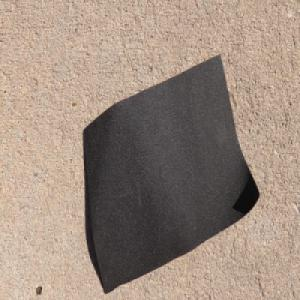PaintChip: (82, 51, 259, 294)
